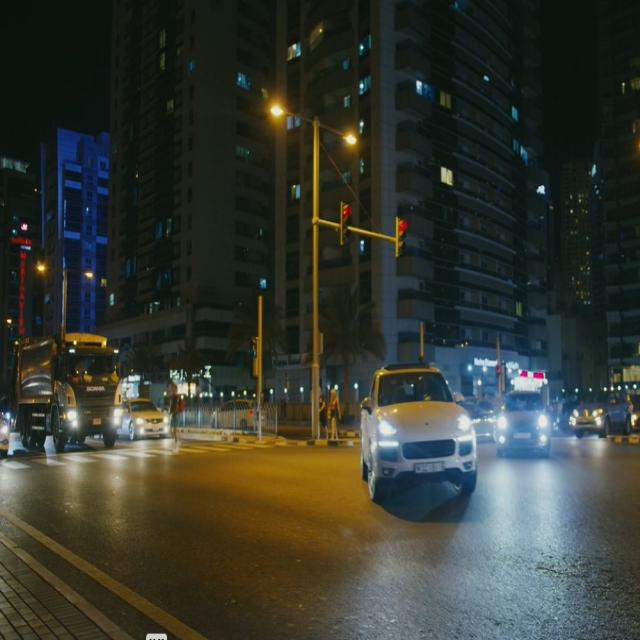car: (358, 361, 478, 499), (493, 387, 552, 463), (571, 390, 634, 440), (118, 398, 169, 442)
truck: (10, 333, 120, 451)
